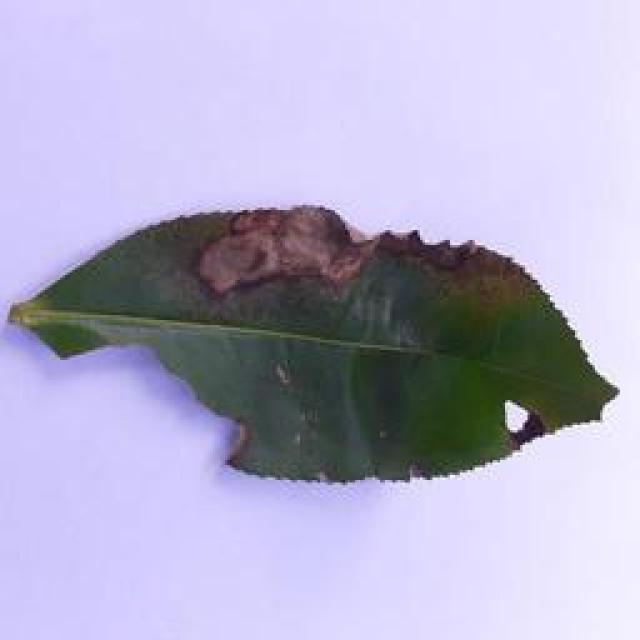Gray Blight: (13, 207, 619, 485)
